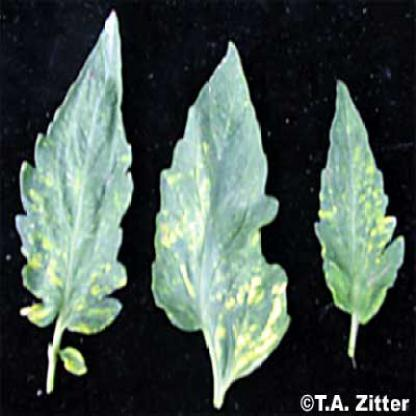tomato leaf mosaic virus: (152, 43, 291, 388), (15, 17, 134, 381), (320, 80, 399, 341)
